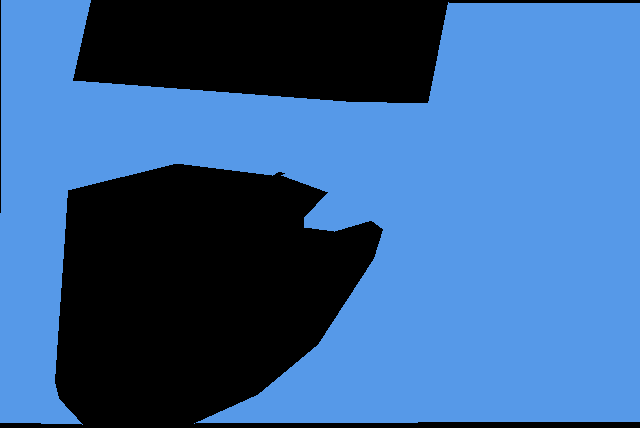Airplane: (0, 0, 640, 424)
